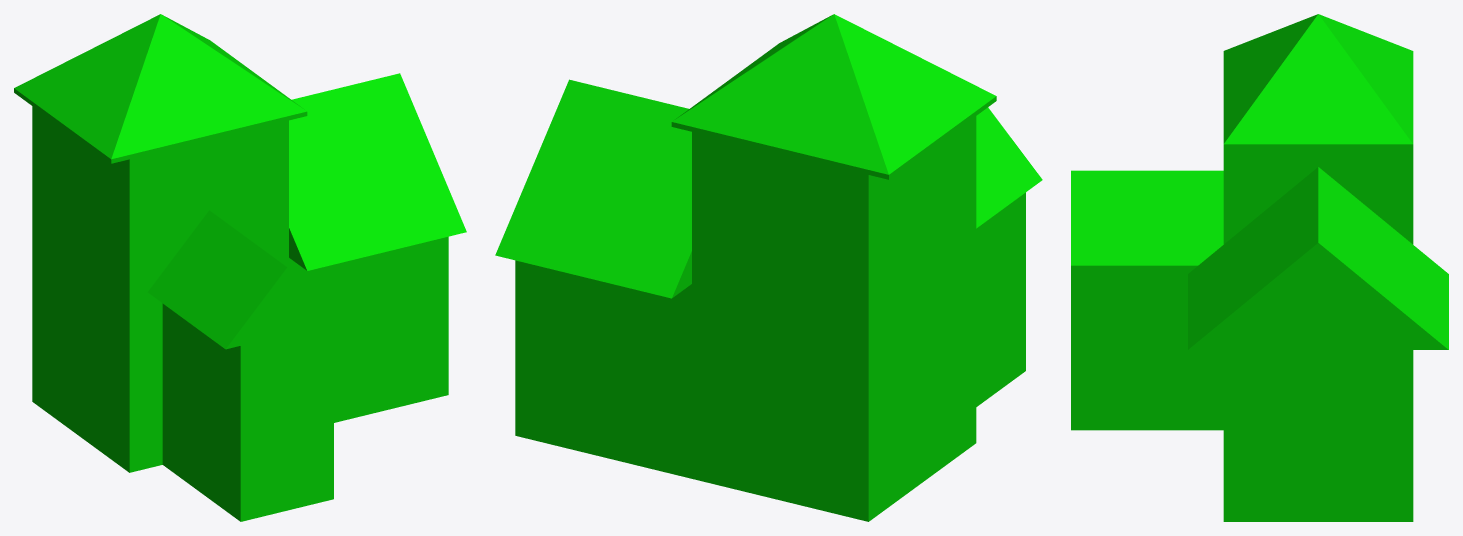
File: StadtGreen.glb
3 views of the same model, side by side, from view 1: azimuth 30°, elevation 25°; view 2: azimuth 150°, elevation 25°; view 3: azimuth 270°, elevation 25° (orthographic). The views are drawn at different scales.
Parts seen in each view (by area): view 1: Cube; view 2: Cube; view 3: Cube.
Part boxes in pixels (x1,y1,x2,y2): Cube: (14,14,466,521); Cube: (495,14,1042,521); Cube: (1071,14,1448,521).
Size of the model in its own units: 0.7302 by 0.835 by 0.7254.
